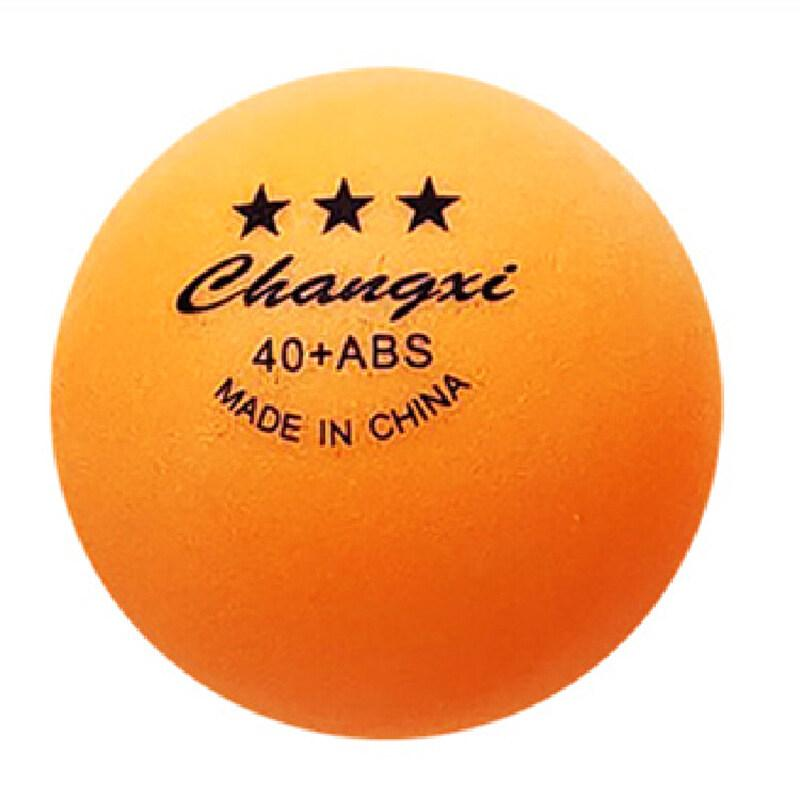oball: (29, 60, 746, 752)
